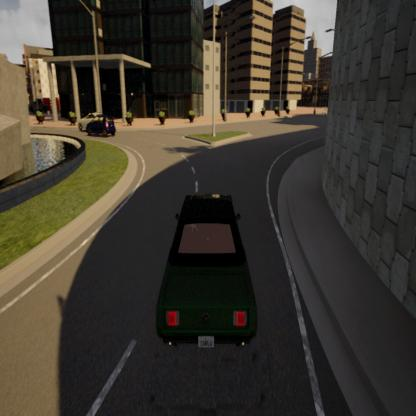Cars: (152, 189, 262, 357), (76, 108, 110, 134), (86, 116, 118, 142)
